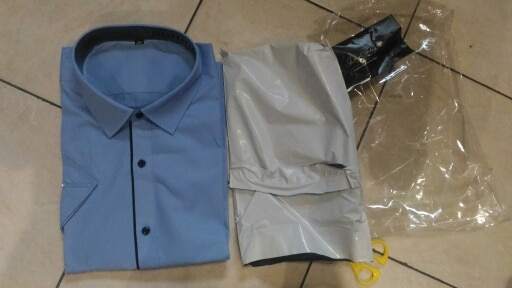shirts: (60, 28, 229, 264)
